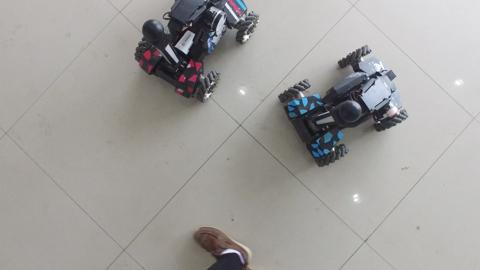chariot: (277, 42, 410, 174), (127, 1, 262, 111)
